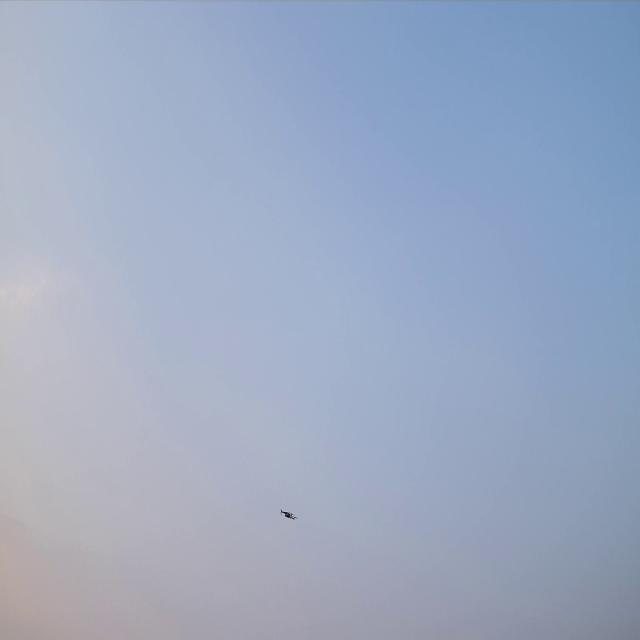UAV: (278, 506, 297, 522)
